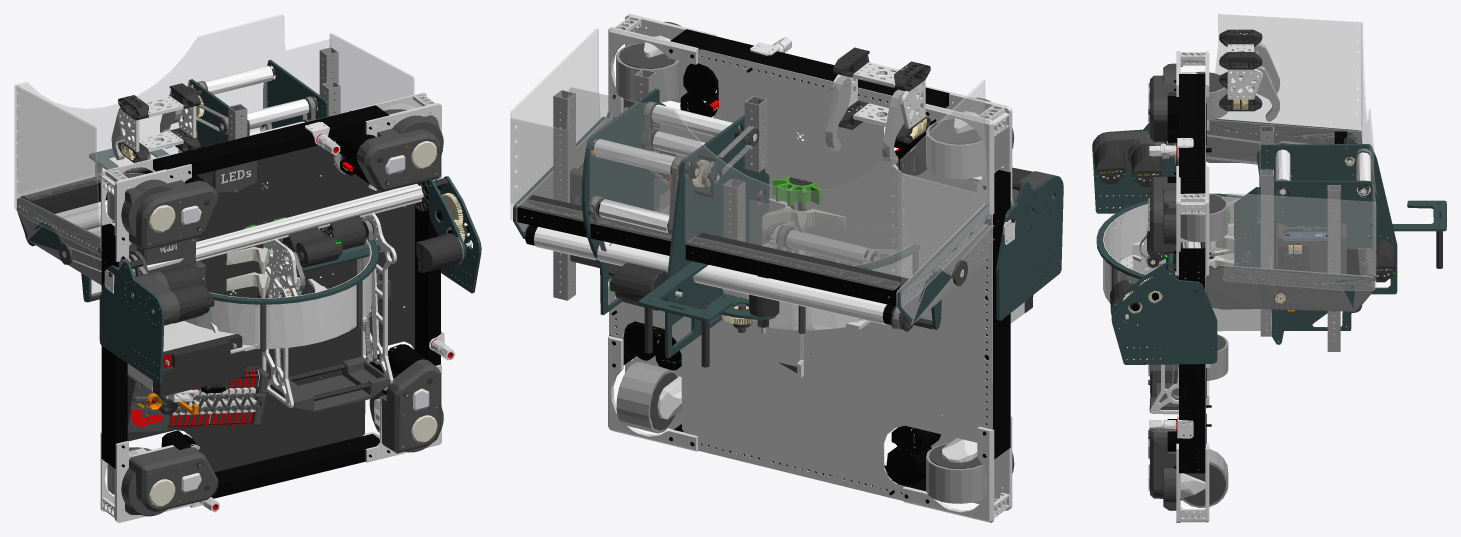
The picture shows the model from 3 angles, left to right: view 1: azimuth 30°, elevation 25°; view 2: azimuth 150°, elevation 25°; view 3: azimuth 270°, elevation 25°; orthographic projection. The views are drawn at different scales.
Visible parts, largest first — view 1: main_mesh, c2_mesh, c1_mesh, c0_mesh, c4_mesh, c5_mesh, c3_mesh; view 2: main_mesh, c2_mesh, c1_mesh, c4_mesh, c5_mesh; view 3: c2_mesh, c1_mesh, main_mesh, c4_mesh, c0_mesh, c5_mesh.
Boxes of the visible parts, left/top/right/bottom form: main_mesh: left=100, top=92, right=455, bottom=522; c2_mesh: left=14, top=14, right=481, bottom=383; c1_mesh: left=89, top=47, right=378, bottom=351; c0_mesh: left=262, top=213, right=396, bottom=412; c4_mesh: left=111, top=83, right=200, bottom=162; c5_mesh: left=210, top=264, right=301, bottom=333; c3_mesh: left=201, top=279, right=367, bottom=393; main_mesh: left=608, top=14, right=1033, bottom=522; c2_mesh: left=510, top=28, right=1063, bottom=331; c1_mesh: left=553, top=69, right=919, bottom=367; c4_mesh: left=825, top=47, right=930, bottom=164; c5_mesh: left=766, top=221, right=896, bottom=320; c2_mesh: left=1092, top=14, right=1376, bottom=364; c1_mesh: left=1096, top=126, right=1446, bottom=351; main_mesh: left=1120, top=51, right=1228, bottom=522; c4_mesh: left=1219, top=29, right=1279, bottom=121; c0_mesh: left=1139, top=224, right=1210, bottom=414; c5_mesh: left=1141, top=197, right=1241, bottom=274.
Bounding box in the file's own units: 0.7081 × 0.7811 × 0.6822.
